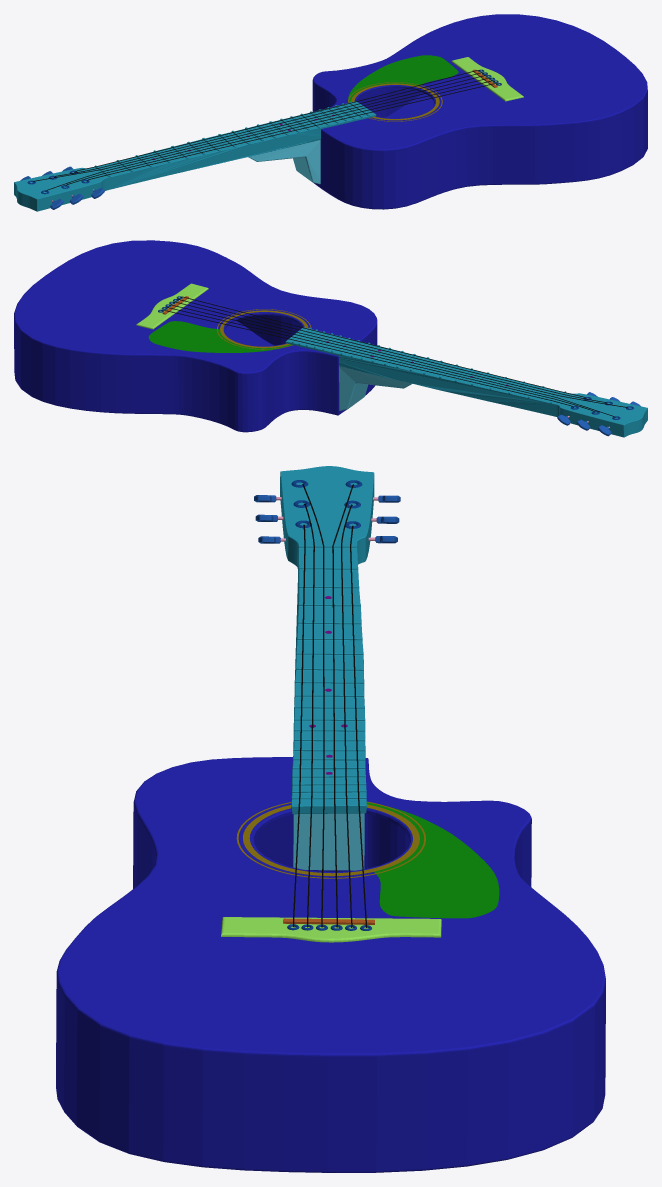
The model's file is Guitar N240216.obj.
The picture shows the model from 3 angles, top to bottom: view 1: azimuth 30°, elevation 25°; view 2: azimuth 150°, elevation 25°; view 3: azimuth 270°, elevation 25°; orthographic projection. The views are drawn at different scales.
Visible parts, largest first — view 1: Line002, Shape001, Line018, Line004, Line003, Line017, Object002, Line014, Line016, Line015, Line013, Line012 (+1 smaller); view 2: Line002, Shape001, Line018, Line004, Line003, Object002, Line014, Line017, Line013, Line016, Line015, Line012 (+1 smaller); view 3: Line002, Shape001, Line018, Line003, Line004, Tube001.
Part boxes in pixels (x1,y1,x2,y2): Line002: [312, 14, 647, 209]; Shape001: [14, 101, 376, 211]; Line018: [348, 55, 458, 101]; Line004: [248, 140, 320, 184]; Line003: [451, 57, 523, 101]; Line017: [32, 75, 487, 182]; Object002: [385, 94, 433, 118]; Line014: [45, 78, 490, 191]; Line016: [54, 72, 483, 177]; Line015: [74, 70, 480, 172]; Line013: [65, 80, 494, 186]; Line012: [86, 83, 498, 181]; Line002: [14, 240, 377, 432]; Shape001: [285, 327, 647, 437]; Line018: [148, 321, 291, 352]; Line004: [339, 366, 412, 410]; Line003: [136, 283, 208, 329]; Object002: [225, 320, 274, 346]; Line014: [173, 302, 628, 408]; Line017: [169, 304, 615, 417]; Line013: [176, 299, 607, 403]; Line016: [165, 307, 594, 412]; Line015: [162, 310, 573, 407]; Line012: [180, 296, 586, 398]; Line002: [56, 757, 605, 1172]; Shape001: [280, 466, 374, 814]; Line018: [366, 802, 499, 918]; Line003: [221, 917, 441, 942]; Line004: [293, 813, 364, 870]; Tube001: [243, 804, 419, 876].
Bounding box in the file's own units: 200 × 20.74 × 79.81.
